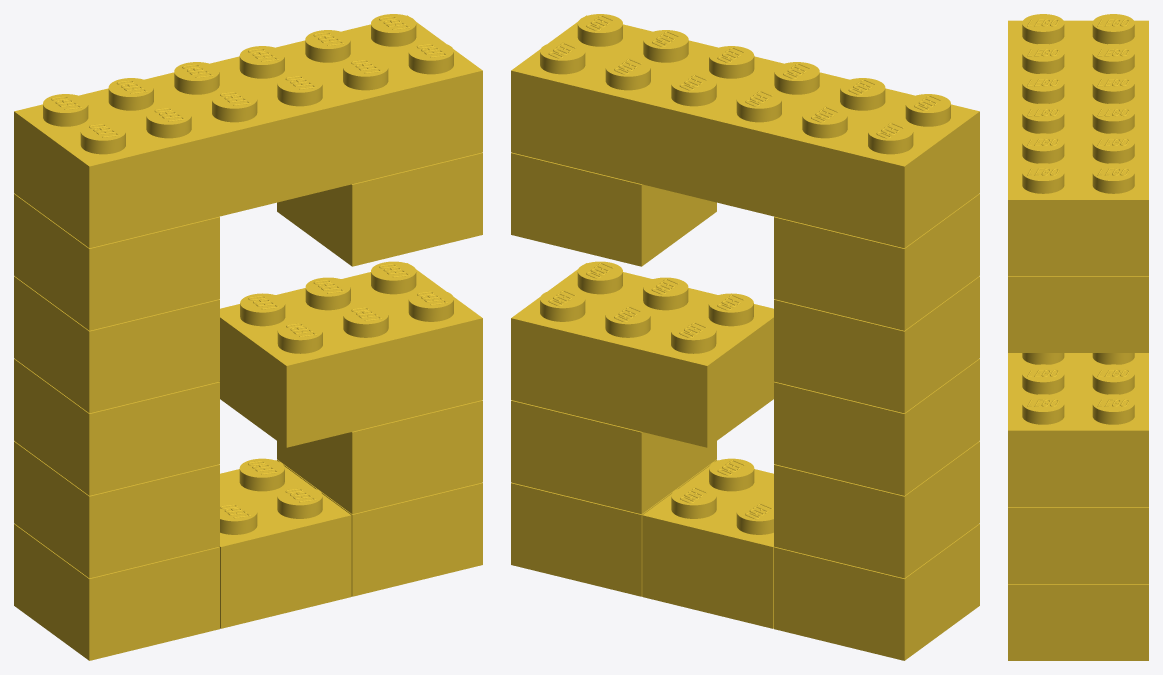
3 renders of one model, left to right at view 1: azimuth 30°, elevation 25°; view 2: azimuth 150°, elevation 25°; view 3: azimuth 270°, elevation 25°, orthographic. The views are drawn at different scales.
Visible parts, largest first — view 1: Inner-Node-G_dot_io-8, Inner-Node-G_dot_io-10, Inner-Node-G_dot_io-7, Inner-Node-G_dot_io-1, Inner-Node-G_dot_io-0, Inner-Node-G_dot_io-5, Inner-Node-G_dot_io-4, Inner-Node-G_dot_io-9, Inner-Node-G_dot_io-3, Inner-Node-G_dot_io-6, Inner-Node-G_dot_io-2; view 2: Inner-Node-G_dot_io-8, Inner-Node-G_dot_io-10, Inner-Node-G_dot_io-7, Inner-Node-G_dot_io-1, Inner-Node-G_dot_io-0, Inner-Node-G_dot_io-5, Inner-Node-G_dot_io-4, Inner-Node-G_dot_io-9, Inner-Node-G_dot_io-3, Inner-Node-G_dot_io-6, Inner-Node-G_dot_io-2; view 3: Inner-Node-G_dot_io-8, Inner-Node-G_dot_io-10, Inner-Node-G_dot_io-2, Inner-Node-G_dot_io-3, Inner-Node-G_dot_io-6.
Part boxes in pixels (<box>): Inner-Node-G_dot_io-8: <box>14,14,482,248</box>; Inner-Node-G_dot_io-10: <box>219,261,482,447</box>; Inner-Node-G_dot_io-7: <box>219,458,351,628</box>; Inner-Node-G_dot_io-1: <box>14,276,219,413</box>; Inner-Node-G_dot_io-0: <box>14,441,219,578</box>; Inner-Node-G_dot_io-5: <box>14,193,219,330</box>; Inner-Node-G_dot_io-4: <box>14,524,219,660</box>; Inner-Node-G_dot_io-9: <box>14,359,219,495</box>; Inner-Node-G_dot_io-3: <box>277,400,482,514</box>; Inner-Node-G_dot_io-6: <box>277,152,482,266</box>; Inner-Node-G_dot_io-2: <box>277,459,482,596</box>; Inner-Node-G_dot_io-8: <box>511,14,979,248</box>; Inner-Node-G_dot_io-10: <box>511,261,774,447</box>; Inner-Node-G_dot_io-7: <box>642,458,774,628</box>; Inner-Node-G_dot_io-1: <box>774,276,979,413</box>; Inner-Node-G_dot_io-0: <box>774,441,979,578</box>; Inner-Node-G_dot_io-5: <box>774,193,979,330</box>; Inner-Node-G_dot_io-4: <box>774,524,979,660</box>; Inner-Node-G_dot_io-9: <box>774,359,979,495</box>; Inner-Node-G_dot_io-3: <box>511,400,716,514</box>; Inner-Node-G_dot_io-6: <box>511,152,716,266</box>; Inner-Node-G_dot_io-2: <box>511,459,716,596</box>; Inner-Node-G_dot_io-8: <box>1008,14,1148,275</box>; Inner-Node-G_dot_io-10: <box>1008,353,1148,506</box>; Inner-Node-G_dot_io-2: <box>1008,584,1148,660</box>; Inner-Node-G_dot_io-3: <box>1008,507,1148,583</box>; Inner-Node-G_dot_io-6: <box>1008,276,1148,352</box>.
Bounding box in the file's own units: 120 × 148 × 39.75.
